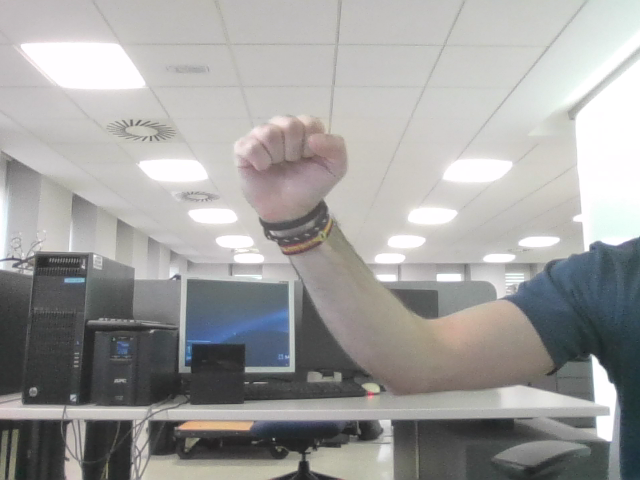Puño: (247, 123, 332, 193)
